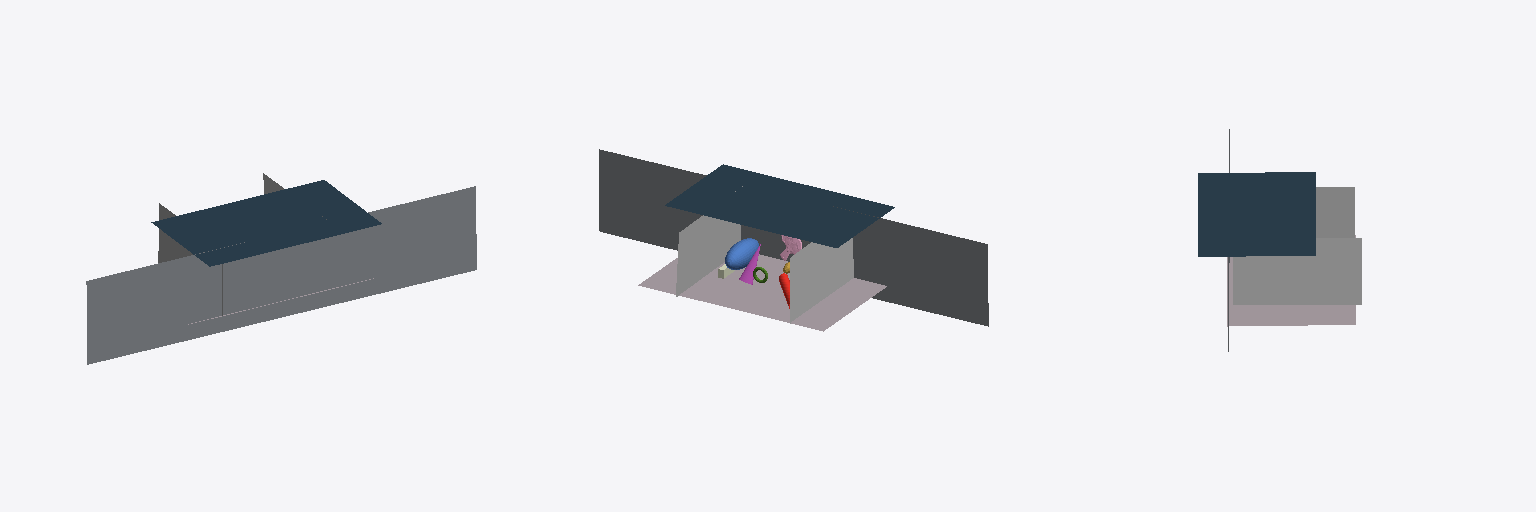
3 views of the same model, side by side, from view 1: azimuth 30°, elevation 25°; view 2: azimuth 150°, elevation 25°; view 3: azimuth 270°, elevation 25° (orthographic).
Parts seen in each view (by area): view 1: back_栅格, sky_平面.002, right_平面.003; view 2: back_栅格, sky_平面.002, plane_平面.001, right_平面.003, left_平面, sphere_球体; view 3: sky_平面.002, left_平面, plane_平面.001, right_平面.003.
Part boxes in pixels (bbox=[...]): back_栅格: bbox=[86, 186, 476, 364]; sky_平面.002: bbox=[151, 180, 381, 266]; right_平面.003: bbox=[158, 203, 222, 315]; back_栅格: bbox=[599, 149, 988, 326]; sky_平面.002: bbox=[665, 164, 894, 247]; plane_平面.001: bbox=[638, 254, 886, 331]; right_平面.003: bbox=[790, 238, 853, 323]; left_平面: bbox=[676, 186, 742, 296]; sphere_球体: bbox=[725, 238, 758, 269]; sky_平面.002: bbox=[1198, 172, 1315, 256]; left_平面: bbox=[1233, 238, 1361, 304]; plane_平面.001: bbox=[1227, 235, 1355, 326]; right_平面.003: bbox=[1316, 187, 1354, 237].
Bounding box in the file's own units: 1083 × 225 × 394.